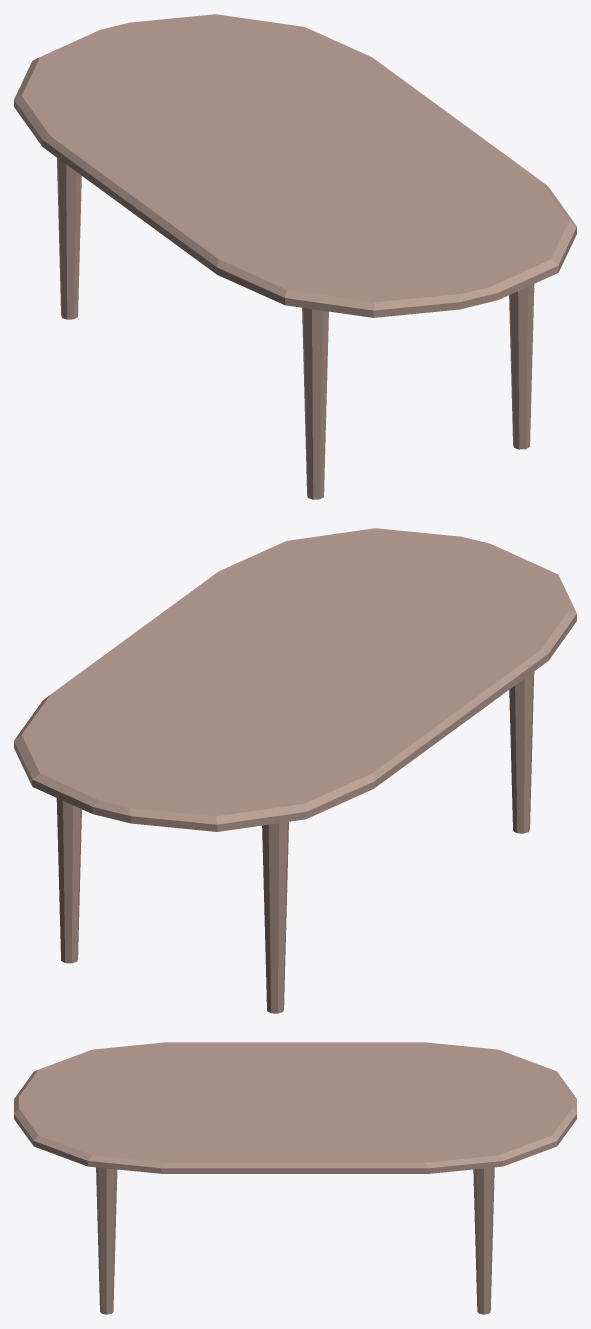
The model's file is Table by Poly by Google - 0X3hPskjhRG.glb.
3 renders of one model, top to bottom at view 1: azimuth 30°, elevation 25°; view 2: azimuth 150°, elevation 25°; view 3: azimuth 270°, elevation 25°, orthographic. The views are drawn at different scales.
Parts seen in each view (by area): view 1: Table_Large_Circular_01_Circle.006; view 2: Table_Large_Circular_01_Circle.006; view 3: Table_Large_Circular_01_Circle.006.
Part boxes in pixels (x1,y1,x2,y2): Table_Large_Circular_01_Circle.006: (14, 14, 576, 499); Table_Large_Circular_01_Circle.006: (14, 528, 576, 1013); Table_Large_Circular_01_Circle.006: (14, 1042, 576, 1314).
Size of the model in its own units: 11.74 by 7.54 by 22.53.
